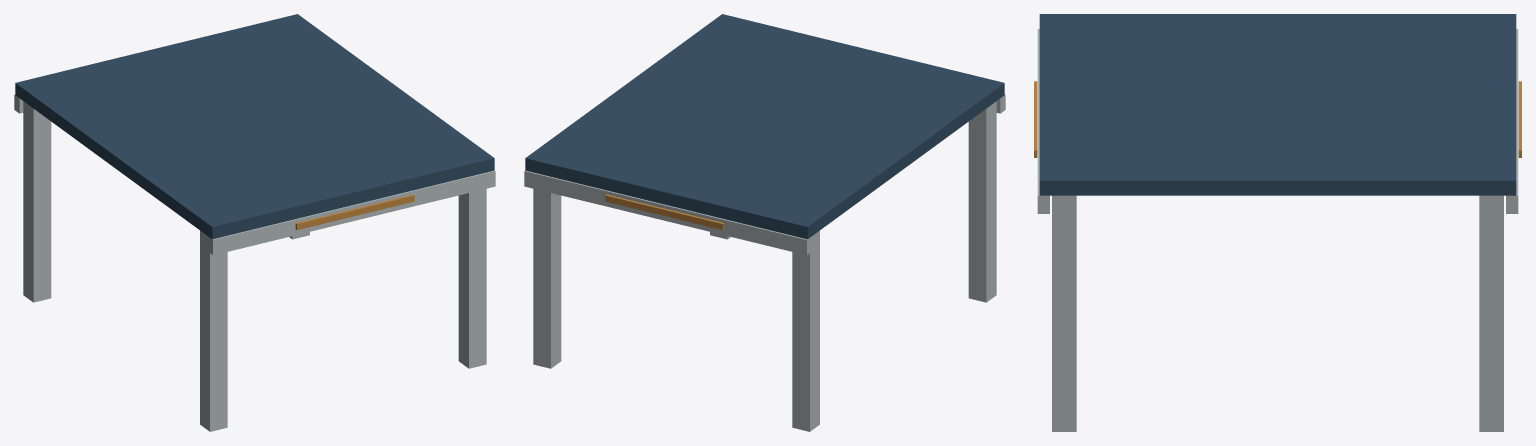
Rendered from SpaceStation_CargoCanopy_Simple.glb.
The picture shows the model from 3 angles, left to right: view 1: azimuth 30°, elevation 25°; view 2: azimuth 150°, elevation 25°; view 3: azimuth 270°, elevation 25°; orthographic projection. The views are drawn at different scales.
Parts seen in each view (by area): view 1: SpaceStation_CargoCanopy_Simple; view 2: SpaceStation_CargoCanopy_Simple; view 3: SpaceStation_CargoCanopy_Simple.
Boxes of the visible parts, box(x1,y1,x2,y2) form: SpaceStation_CargoCanopy_Simple: box(14, 14, 495, 431); SpaceStation_CargoCanopy_Simple: box(524, 14, 1005, 431); SpaceStation_CargoCanopy_Simple: box(1034, 14, 1521, 431).
Size of the model in its own units: 4.8 by 3.4 by 5.94.
